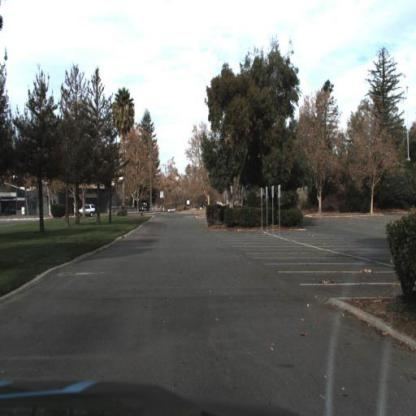car: (75, 201, 99, 222)
